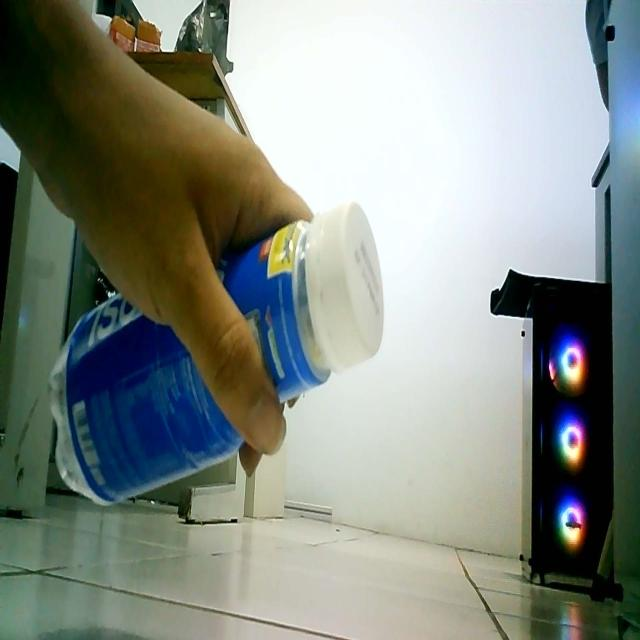botol: (23, 186, 400, 519)
